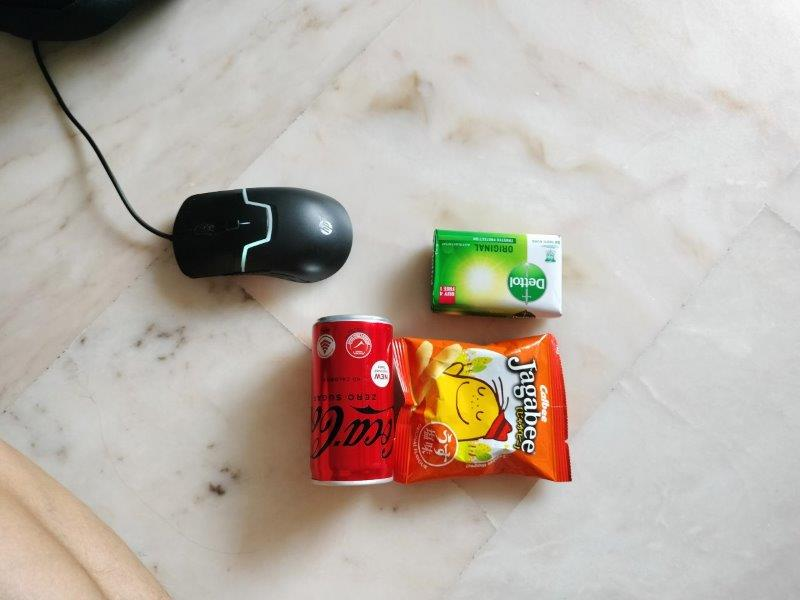Coke: (308, 314, 390, 486)
Dettol: (430, 227, 564, 320)
Jagabee: (391, 333, 574, 484)
